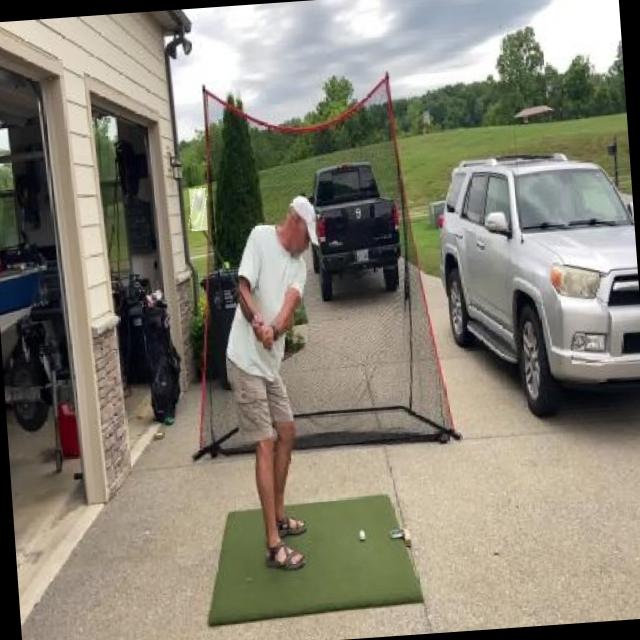club head: (188, 188, 208, 230)
